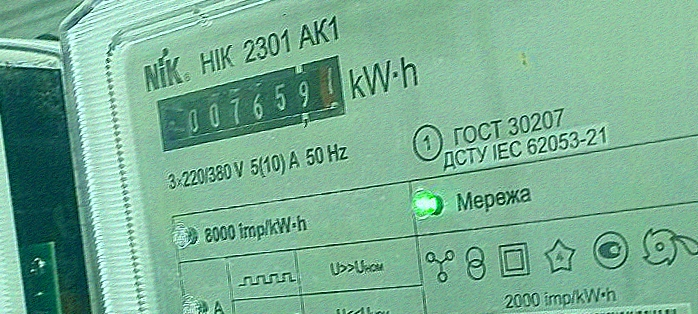0: (186, 105, 201, 133), (207, 101, 221, 129)
1: (322, 66, 337, 98)
5: (271, 81, 289, 114)
6: (250, 90, 265, 122)
7: (227, 94, 243, 126)
9: (295, 77, 312, 112)
screen: (140, 48, 367, 159)
